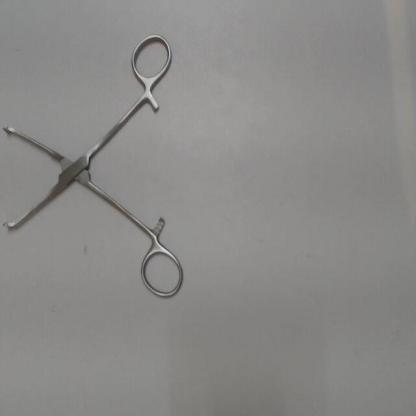Allis Tissue Forceps: (0, 26, 189, 309)
